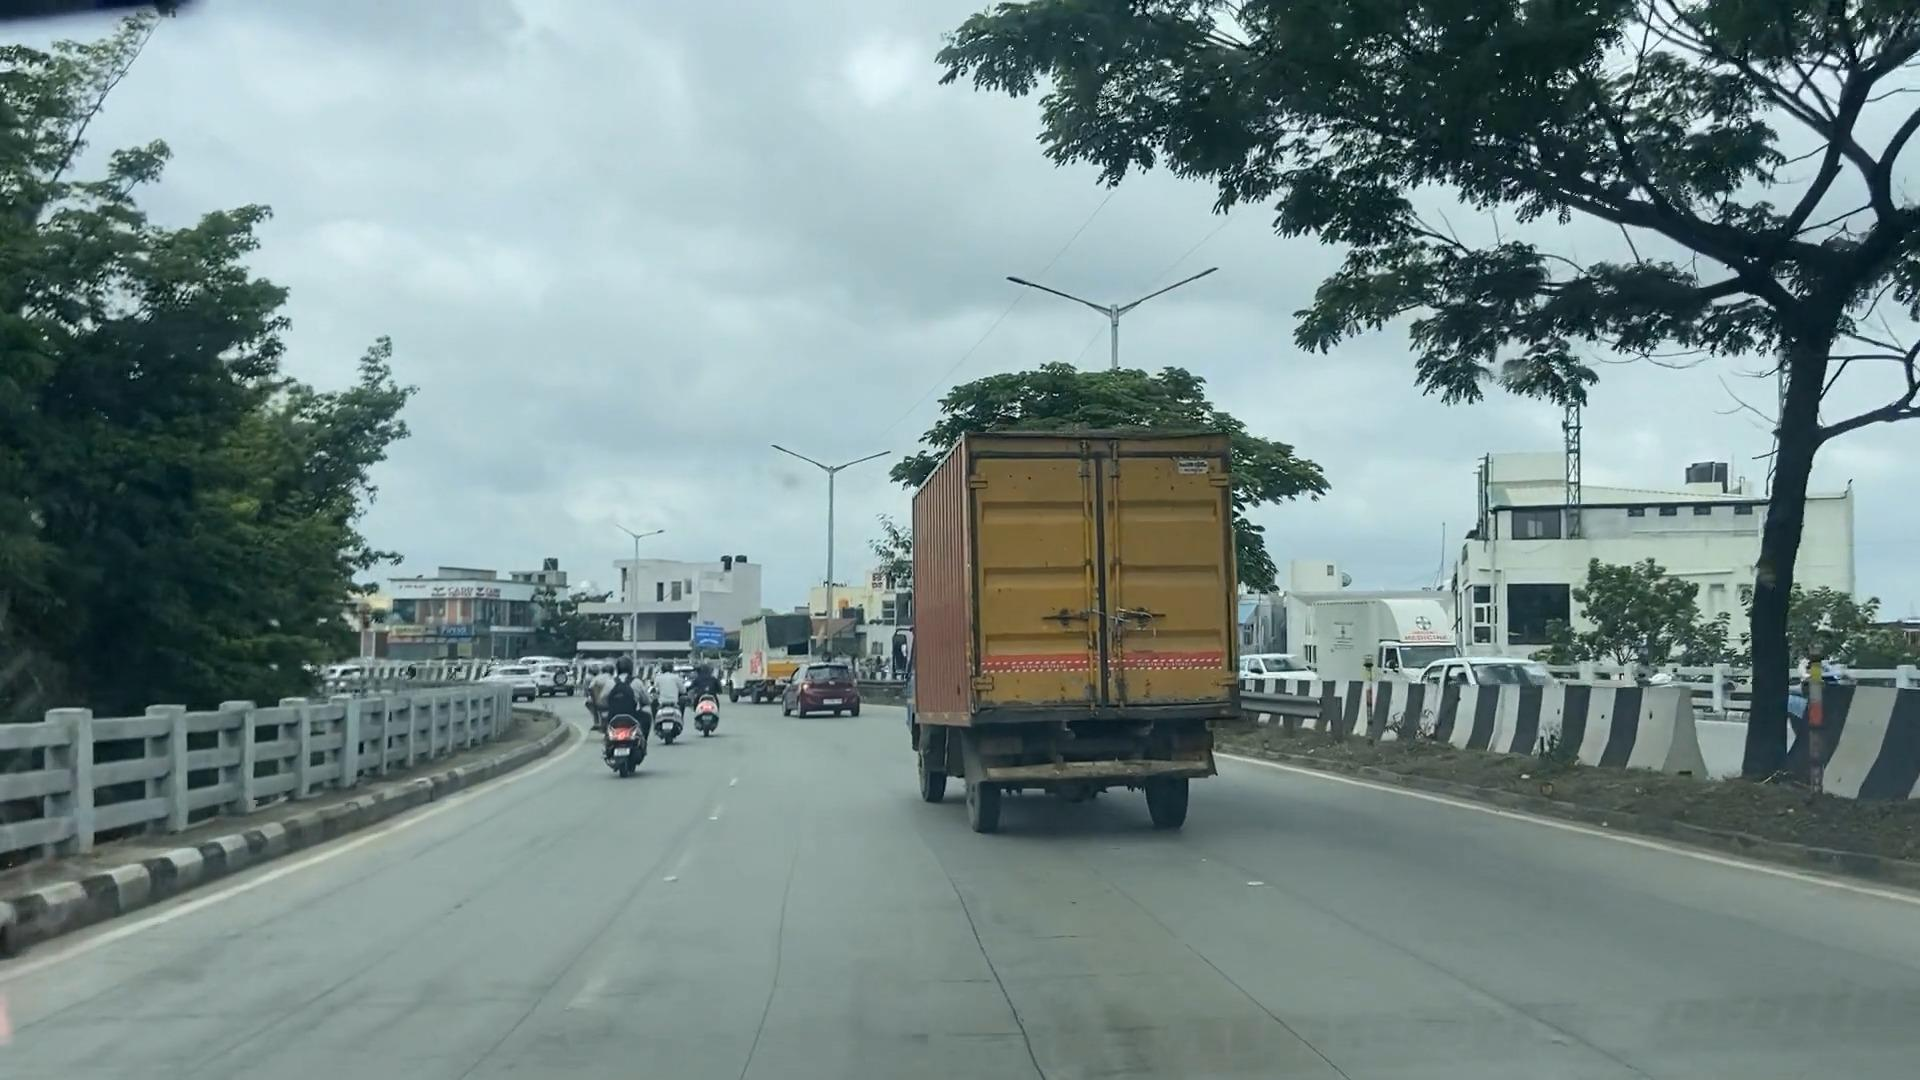HMV: (916, 434, 1251, 831)
LMV: (584, 650, 659, 804), (793, 644, 866, 750), (657, 636, 708, 765)
